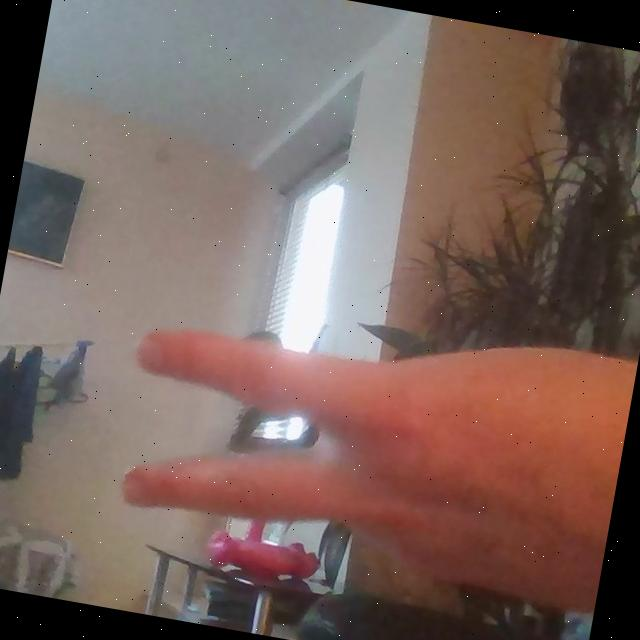scissors: (106, 286, 549, 599)
